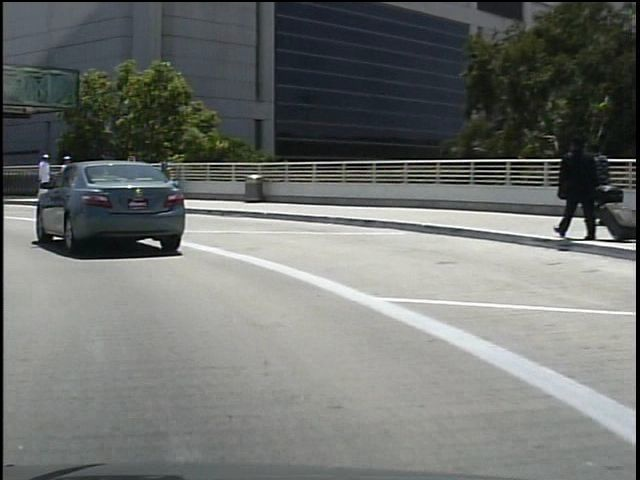person: (547, 134, 597, 243), (581, 141, 616, 234), (55, 152, 76, 201), (32, 149, 51, 195)
